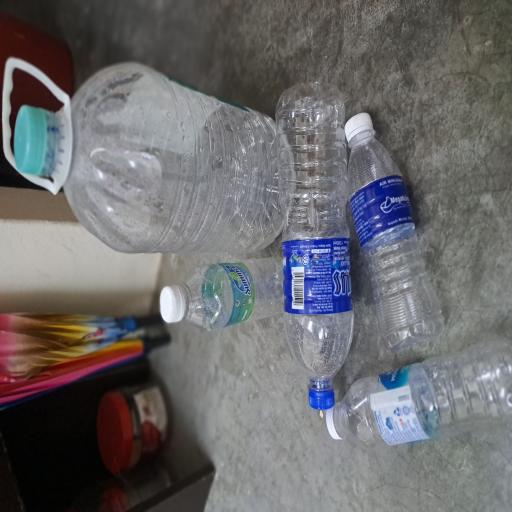plastic bottle: (196, 84, 340, 386), (95, 368, 328, 472), (136, 248, 194, 397), (123, 459, 279, 512), (45, 453, 126, 512)
plastic bottle cap: (251, 16, 304, 83), (142, 211, 169, 252), (277, 460, 303, 501), (73, 409, 96, 446), (53, 434, 79, 454)
